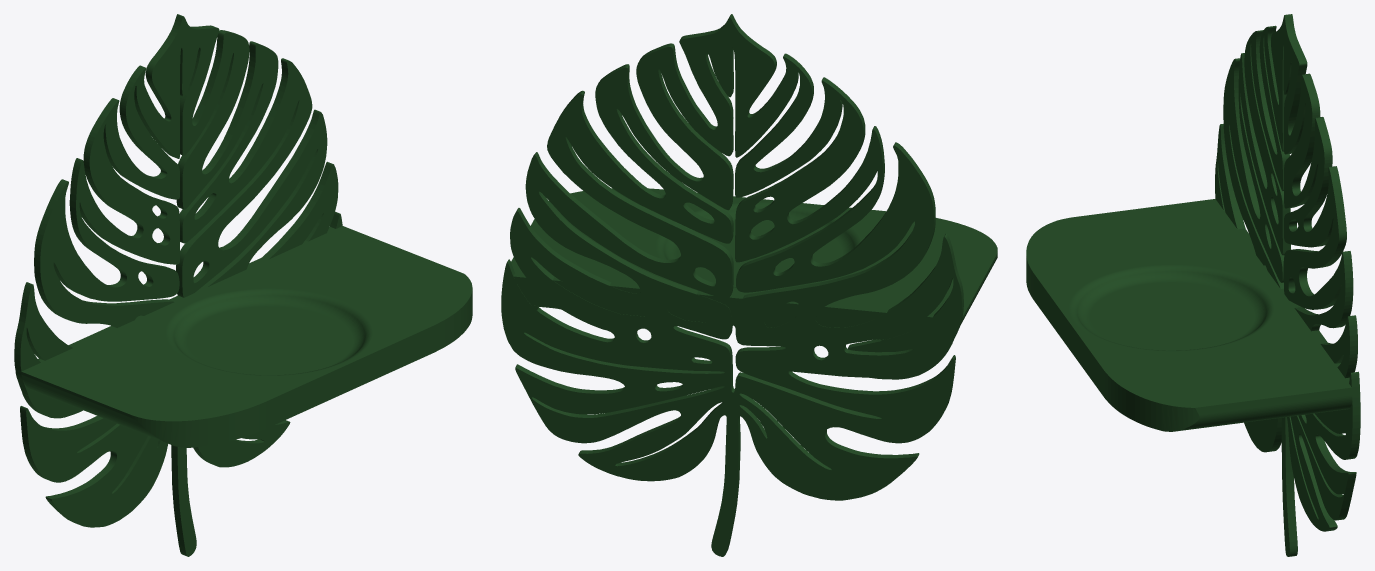
The picture shows the model from 3 angles, left to right: view 1: azimuth 30°, elevation 25°; view 2: azimuth 150°, elevation 25°; view 3: azimuth 270°, elevation 25°; orthographic projection.
Visible parts, largest first — view 1: obj_1_Leaf holder7; view 2: obj_1_Leaf holder7; view 3: obj_1_Leaf holder7.
Part boxes in pixels (x1,y1,x2,y2): obj_1_Leaf holder7: (14,14,472,556); obj_1_Leaf holder7: (501,14,997,556); obj_1_Leaf holder7: (1026,14,1360,556).
Bounding box in the file's own units: 218 × 259 × 146.
